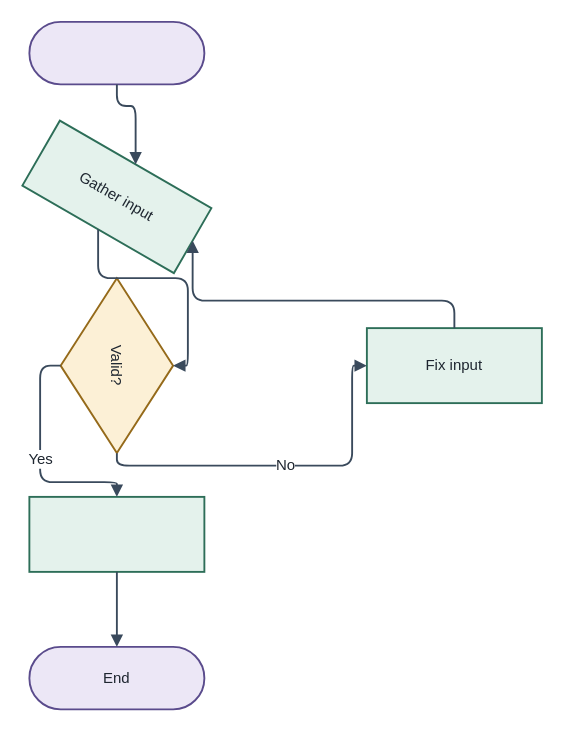
Some shapes in this 565 by 733 pixel diagram are drawn without their labels. Each missing label, with the centre of its shape:
"Save diagram" goes at (116,533).
"Start" goes at (116,52).
